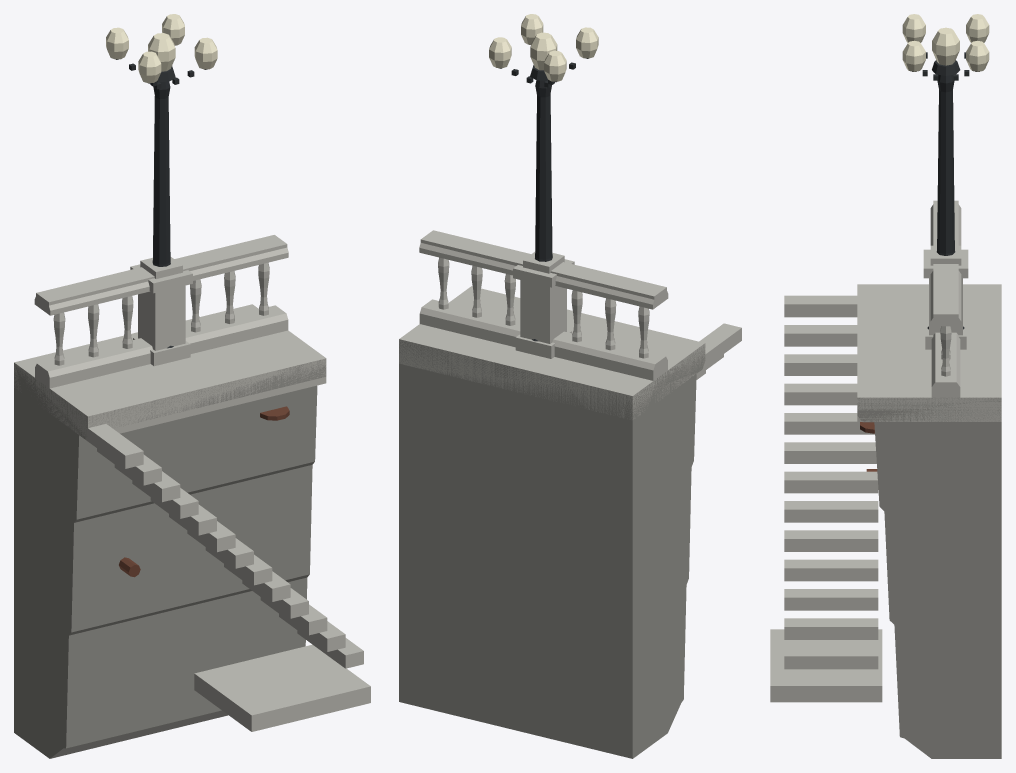
Rendered from embankment_kit.glb.
3 views of the same model, side by side, from view 1: azimuth 30°, elevation 25°; view 2: azimuth 150°, elevation 25°; view 3: azimuth 270°, elevation 25° (orthographic). The views are drawn at different scales.
Parts seen in each view (by area): view 1: bal_pier; view 2: bal_pier; view 3: bal_pier.
Boxes of the visible parts, <box> form: bal_pier: <box>14,14,370,758</box>; bal_pier: <box>399,14,741,758</box>; bal_pier: <box>770,14,1001,758</box>.
Size of the model in its own units: 3 by 8.28 by 2.58.
Materials: 1 (1 with a texture image).
